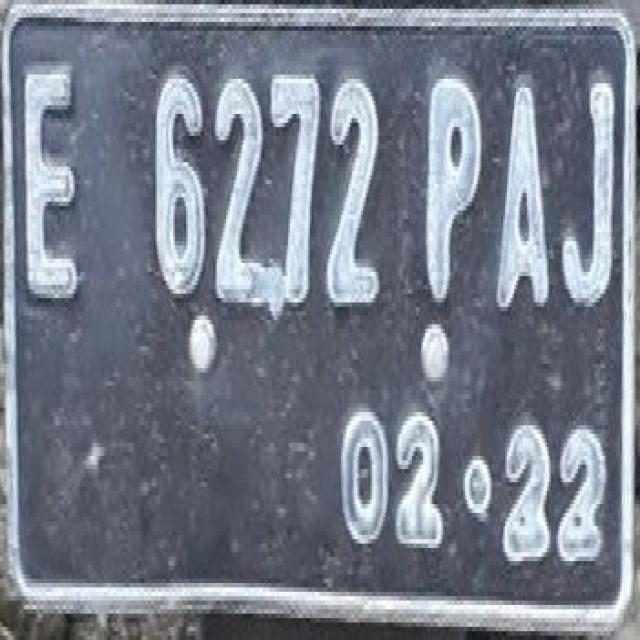plate: (0, 0, 633, 627)
